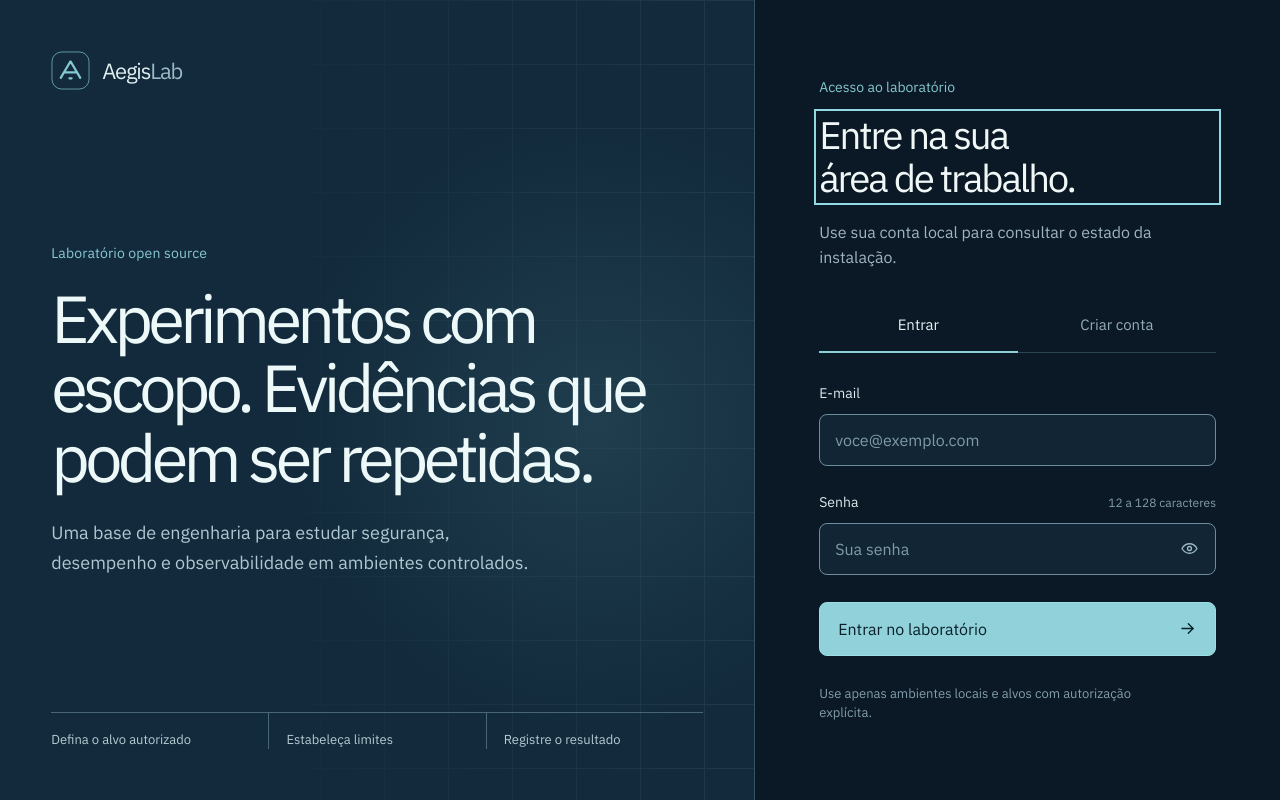
Test: AegisLab interface › shows a duplicate-account error without leaving the registration form
Click the button "Criar conta" at (1117, 327), box [1018,302,1216,352]
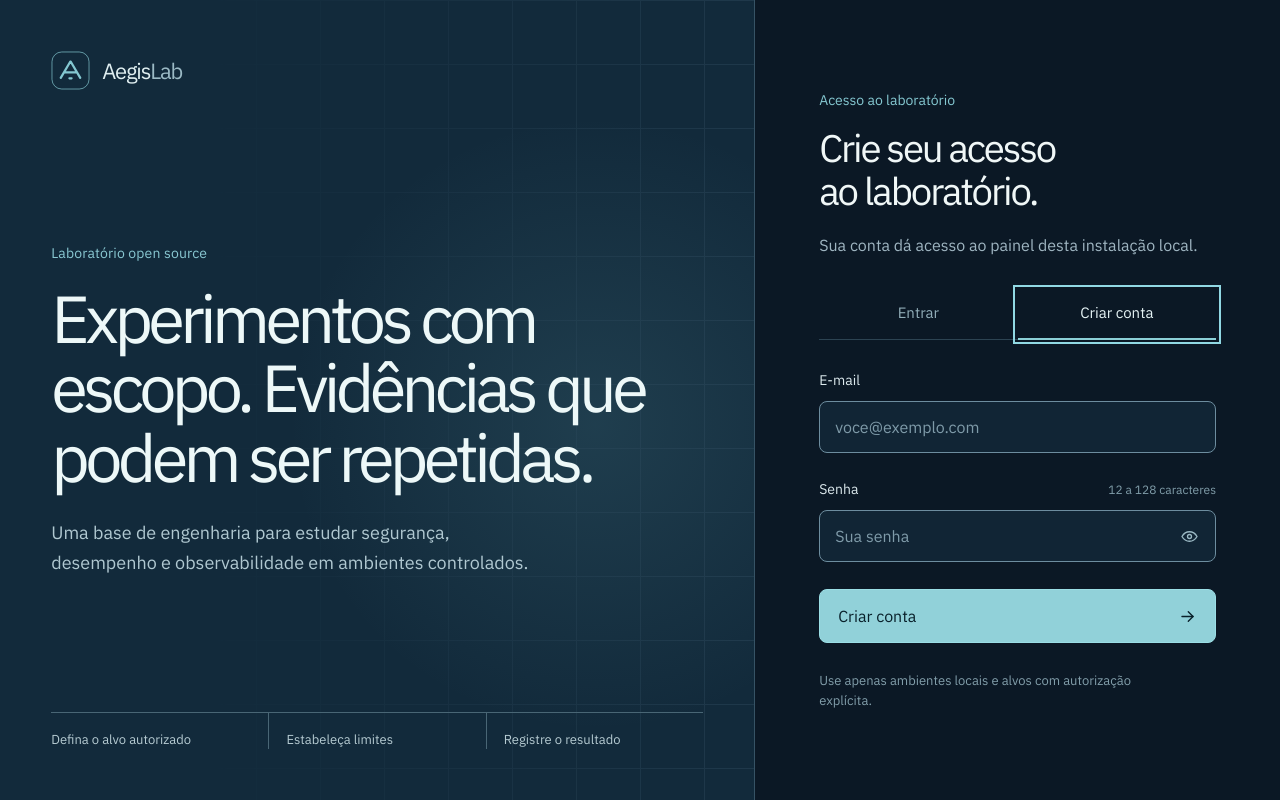
Type "analista@example.test" into the field labelled "E-mail" at (1018, 427), box [819,401,1216,453]
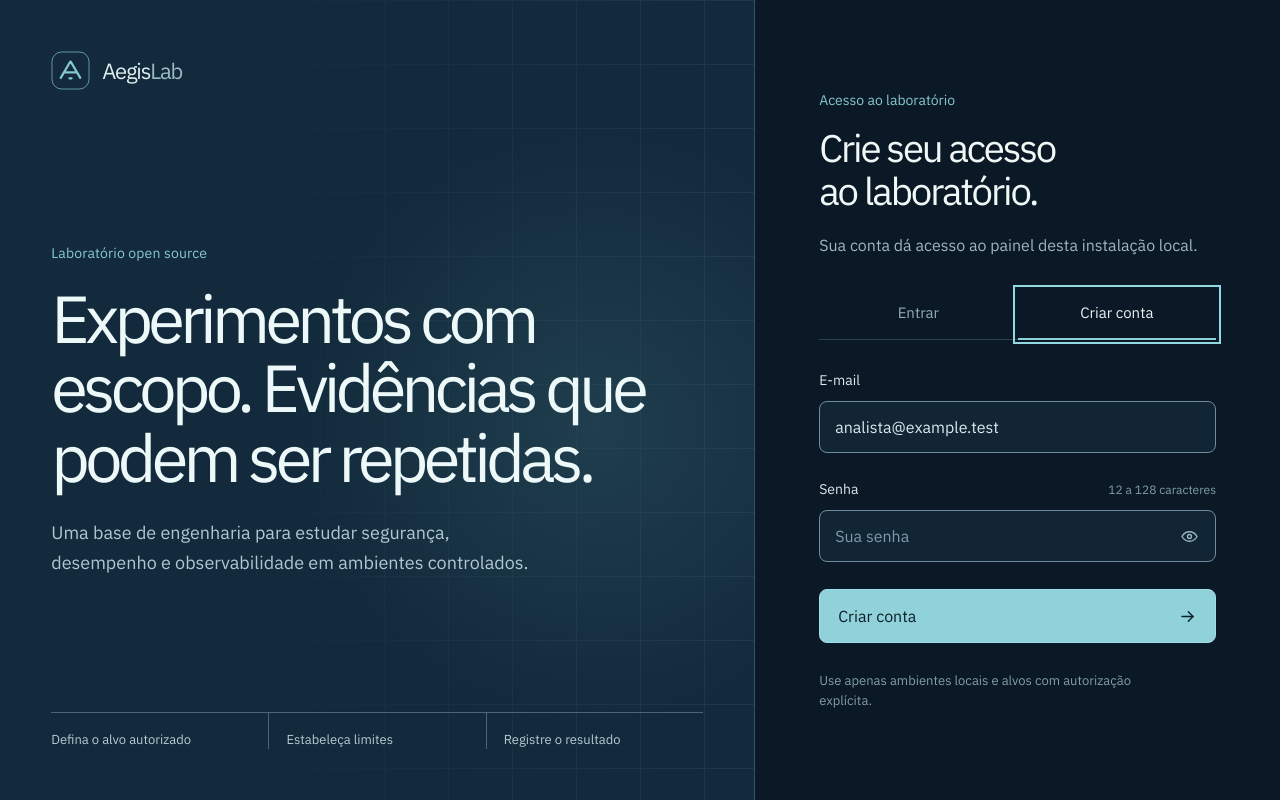
Type "strong-password-123" into the password field labelled "Senha" at (1018, 536), box [819,510,1216,562]
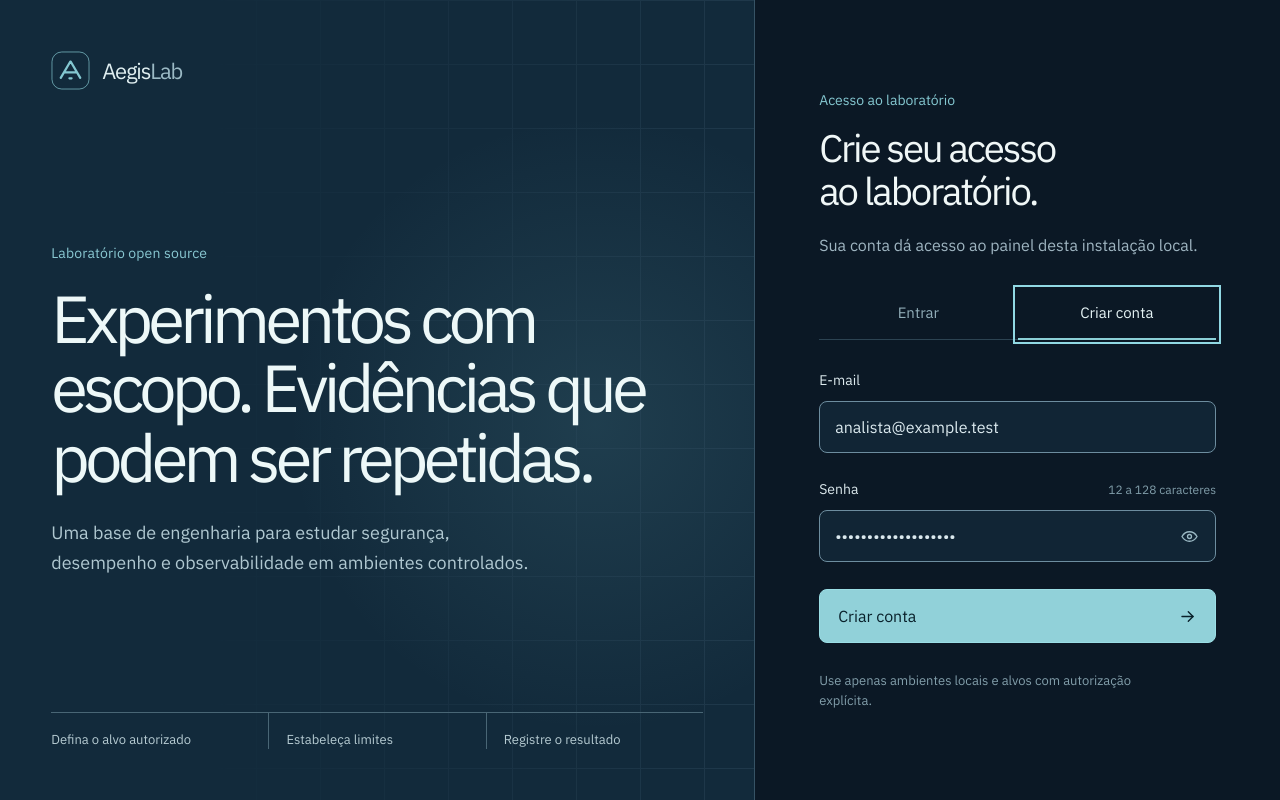
Click the button "Criar conta" below "Senha" at (877, 616), box [819,589,1216,643]
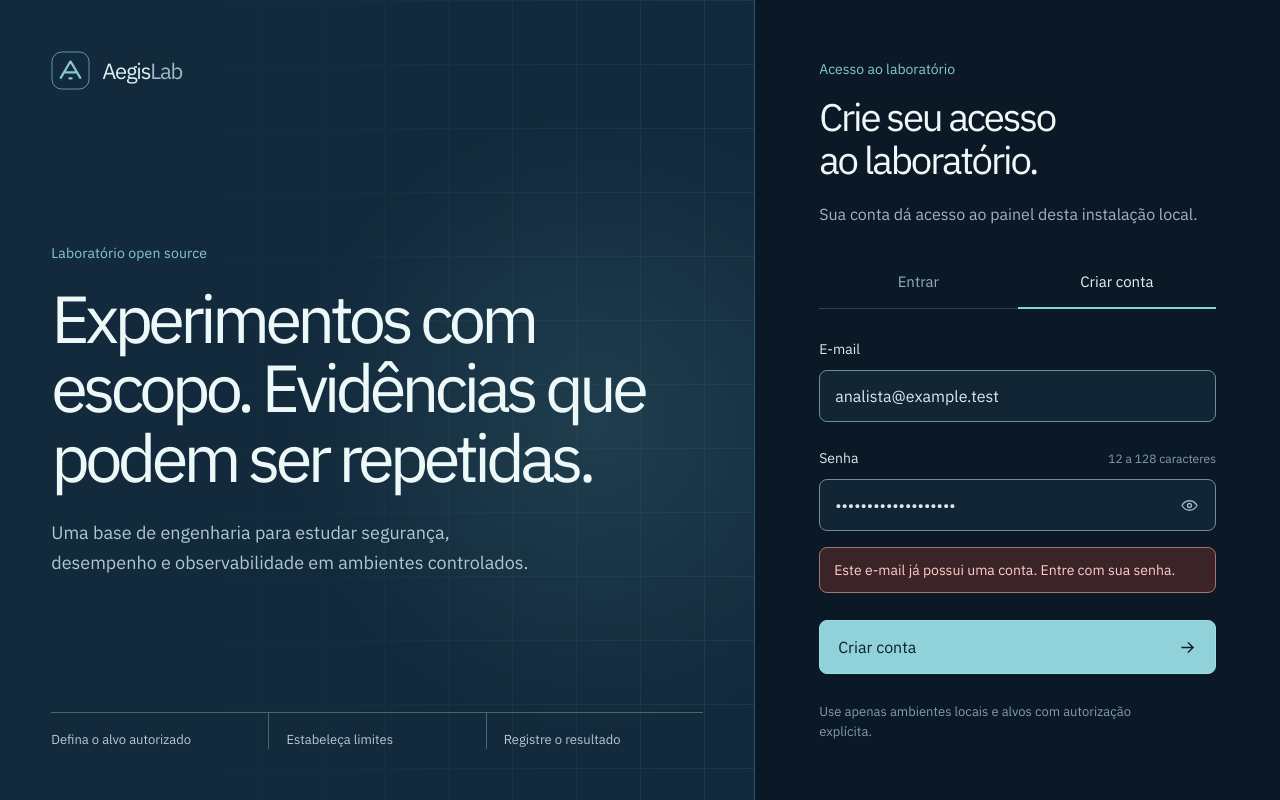
Result: the heading "Crie seu acesso ao laboratório." is shown at [819,92,1055,185]
Result: the message shows "Este e-mail já possui uma conta" at [834,561,1175,579]
